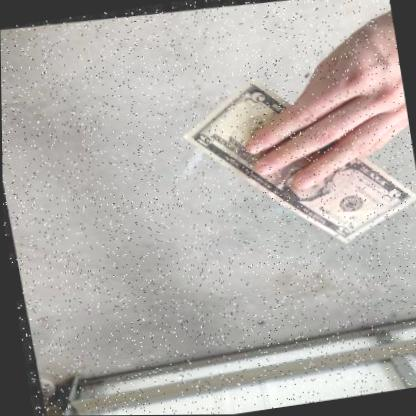five-front: (177, 72, 415, 241)
